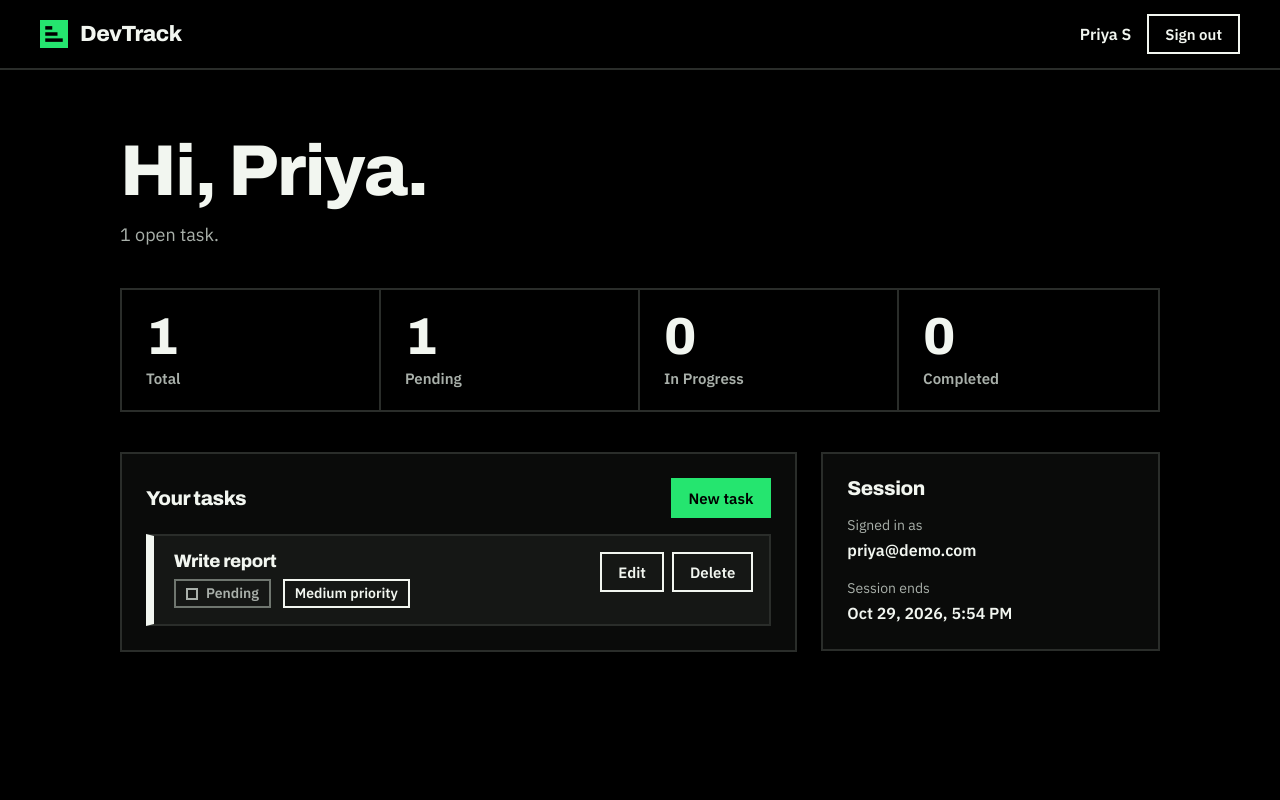
Test case: Dashboard: delete › deleting the last task shows the empty state
Expected: the heading "Hi, Priya." is shown, 120,132 -> 428,210
Click the button with aria-label "Delete Write report" at (713, 572), box 672,552 -> 753,592
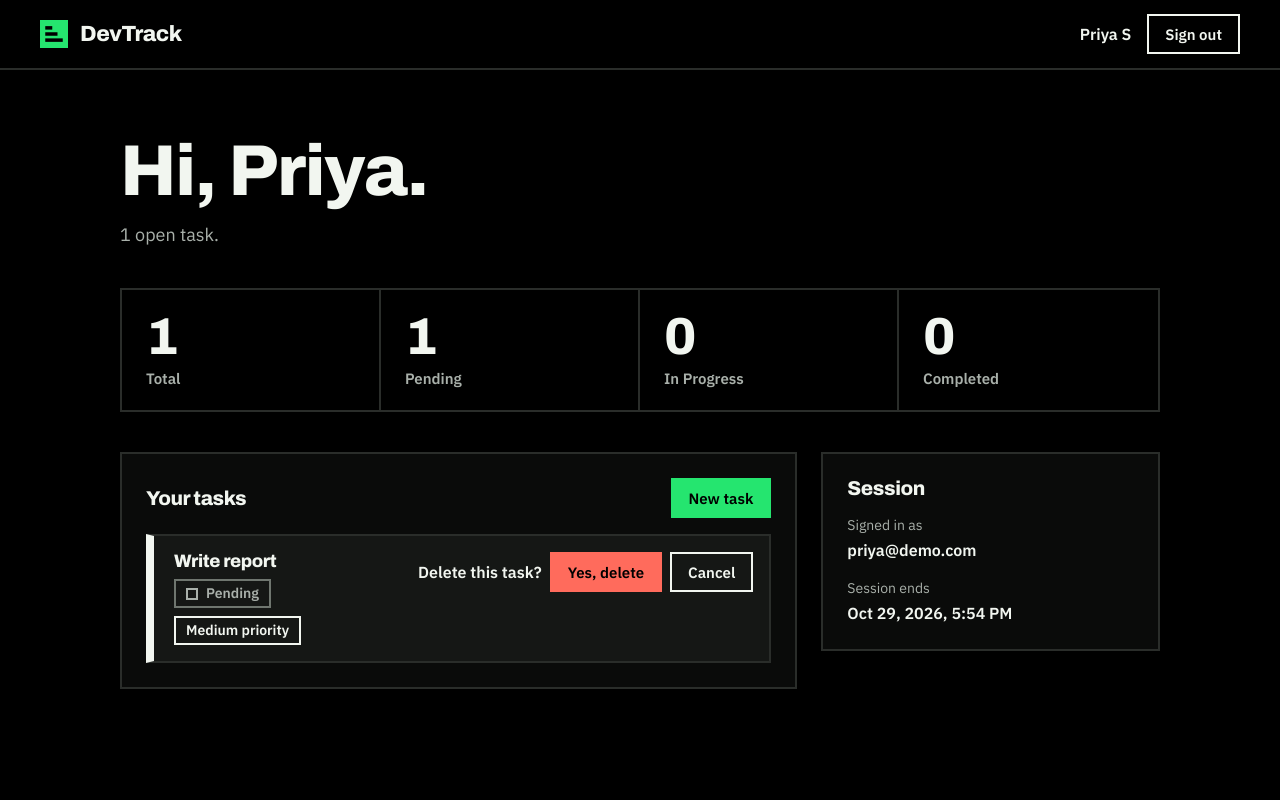
Click the button "Yes, delete" at (606, 572), box 550,552 -> 662,592
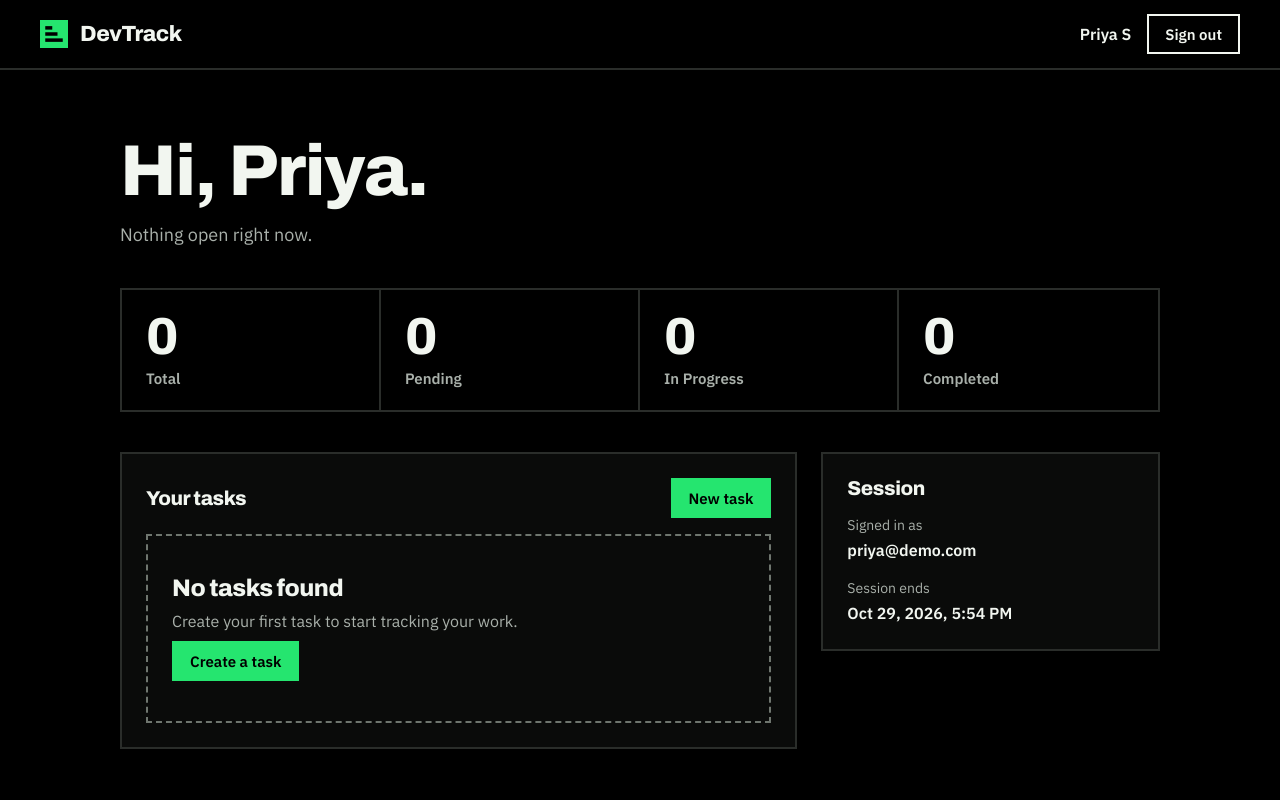
Result: the text "No tasks found" is shown at 172,576 -> 343,602
